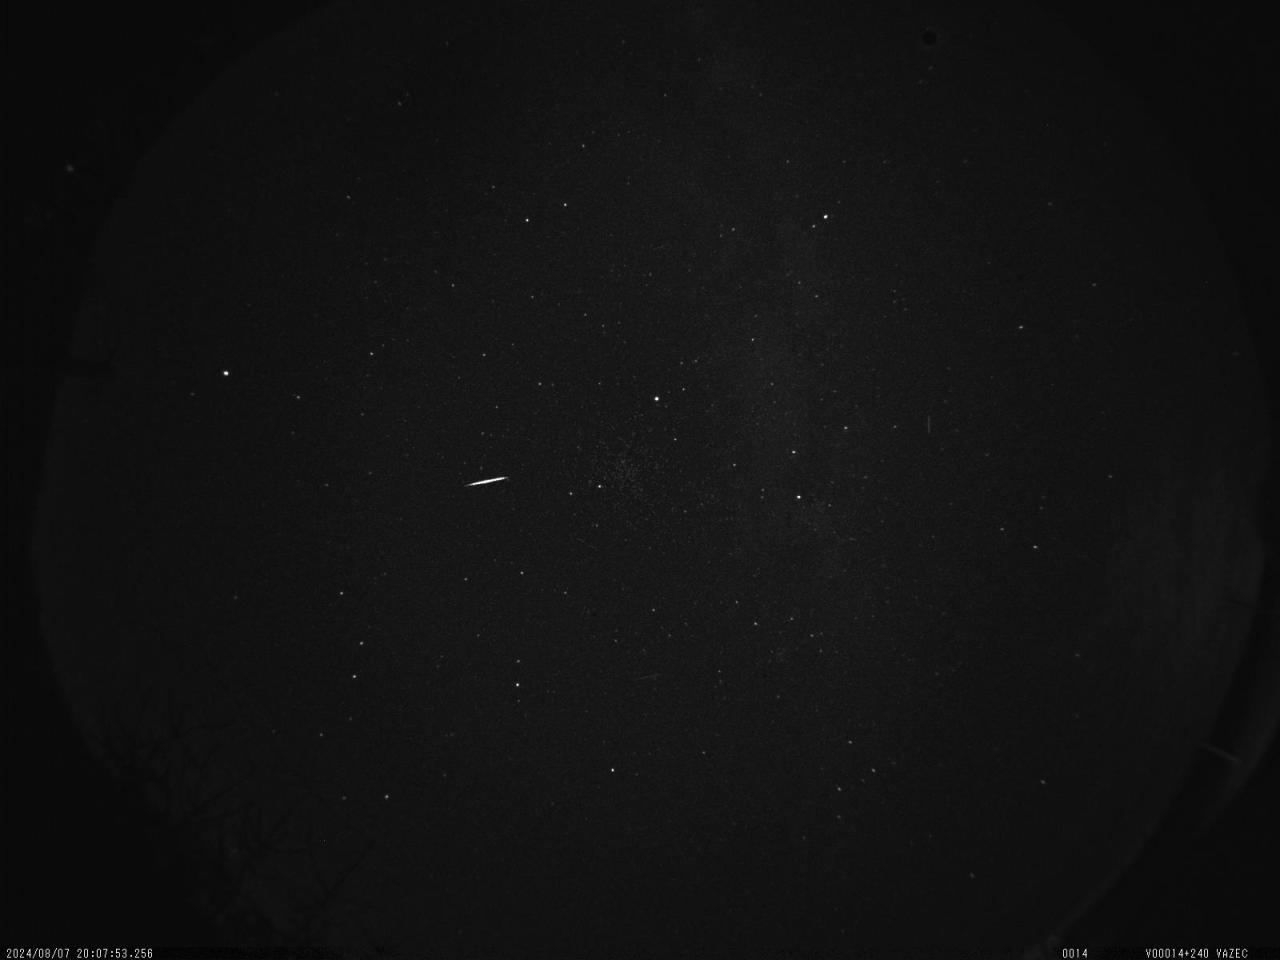Meteor: (465, 473, 509, 488)
